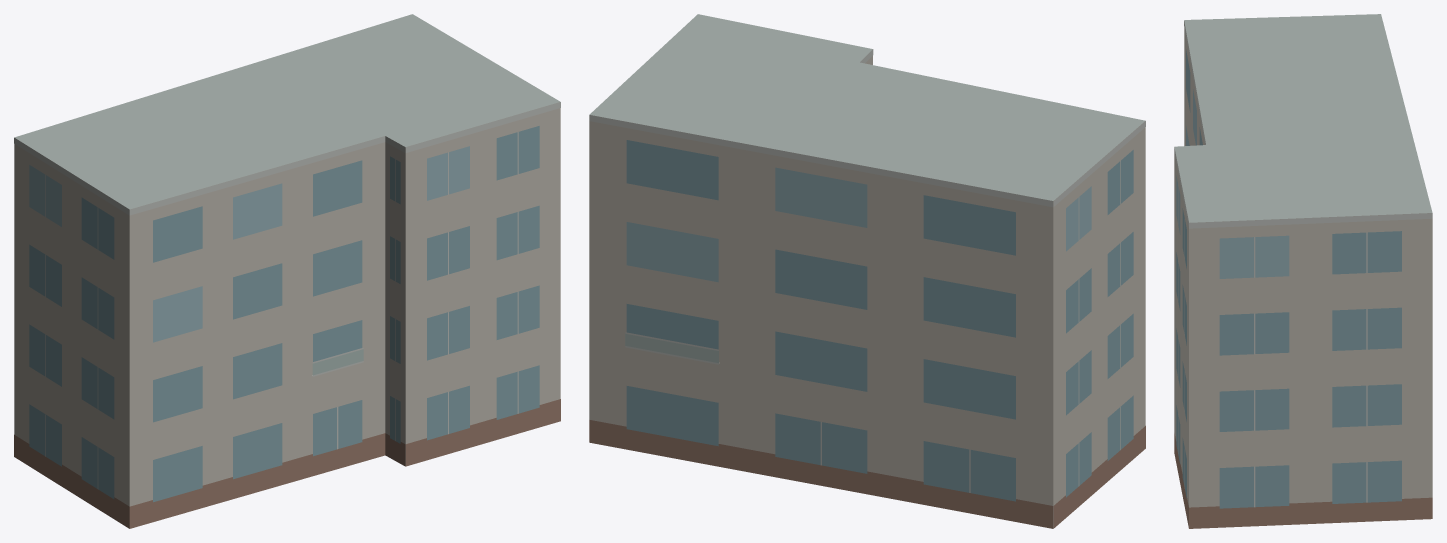
Rendered from survey-upis-32663114.glb.
3 renders of one model, left to right at view 1: azimuth 30°, elevation 25°; view 2: azimuth 150°, elevation 25°; view 3: azimuth 270°, elevation 25°, orthographic. The views are drawn at different scales.
Parts seen in each view (by area): view 1: survey-upis-32663114.tmp; view 2: survey-upis-32663114.tmp; view 3: survey-upis-32663114.tmp.
Boxes of the visible parts, x1,y1,x2,y2 form: survey-upis-32663114.tmp: (14,14,560,528); survey-upis-32663114.tmp: (589,14,1145,528); survey-upis-32663114.tmp: (1174,14,1432,528).
Bounding box in the file's own units: 18.73 × 12.8 × 9.8.
